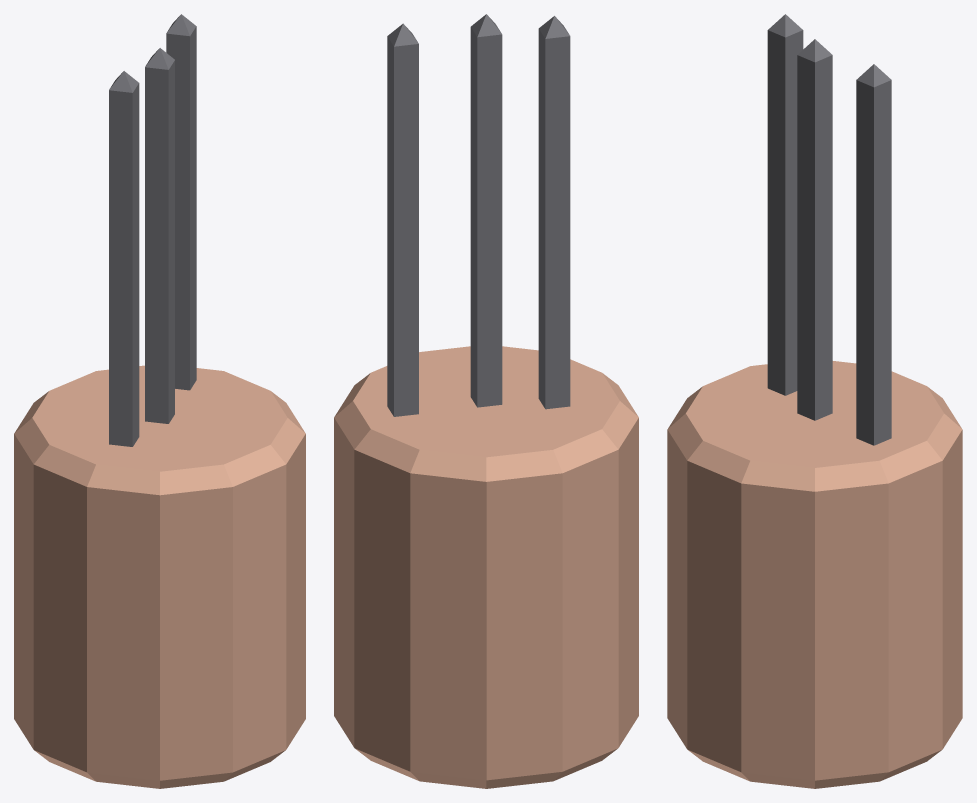
The model's file is SM_Utensils_Jar.fbx.
3 renders of one model, left to right at view 1: azimuth 30°, elevation 25°; view 2: azimuth 150°, elevation 25°; view 3: azimuth 270°, elevation 25°, orthographic. The views are drawn at different scales.
Visible parts, largest first — view 1: Utensils_Jar; view 2: Utensils_Jar; view 3: Utensils_Jar.
Boxes of the visible parts, x1,y1,x2,y2 form: Utensils_Jar: (14, 14, 305, 788); Utensils_Jar: (334, 14, 638, 788); Utensils_Jar: (667, 14, 962, 788).
Bounding box in the file's own units: 10 × 26 × 10.
